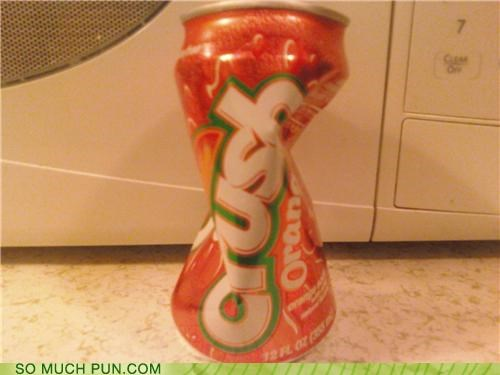can: (170, 1, 351, 363)
